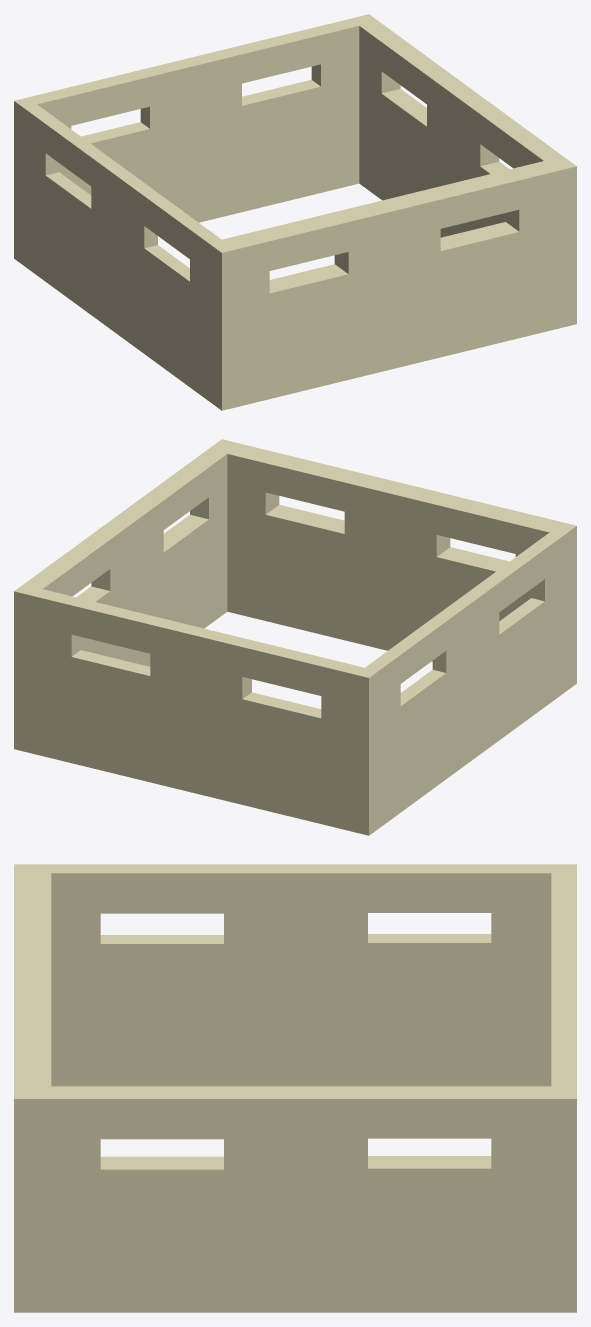
The model's file is DindingAtas.fbx.
3 views of the same model, one above another, from view 1: azimuth 30°, elevation 25°; view 2: azimuth 150°, elevation 25°; view 3: azimuth 270°, elevation 25° (orthographic). The views are drawn at different scales.
Visible parts, largest first — view 1: Tembok.001; view 2: Tembok.001; view 3: Tembok.001.
Boxes of the visible parts, x1,y1,x2,y2 form: Tembok.001: [14, 14, 576, 410]; Tembok.001: [14, 439, 576, 835]; Tembok.001: [14, 864, 576, 1312].
Bounding box in the file's own units: 3519 × 1494 × 3569.
